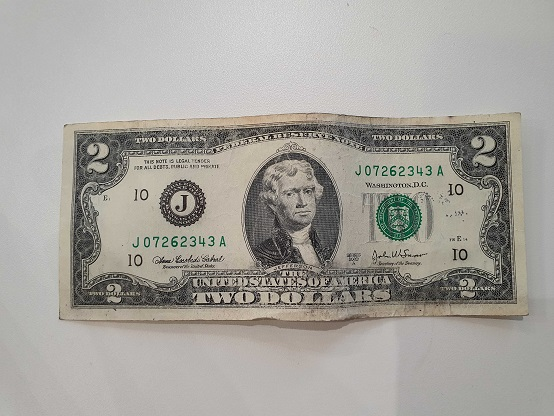2dollar: (60, 112, 529, 321)
